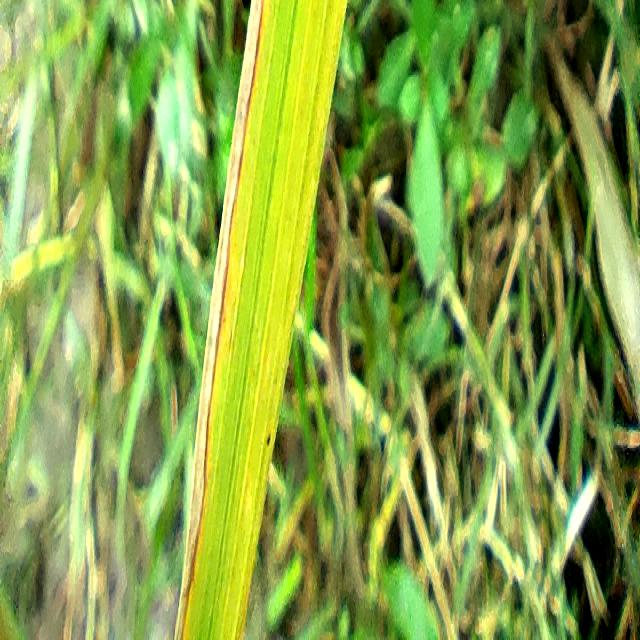BLB: (175, 0, 264, 638)
